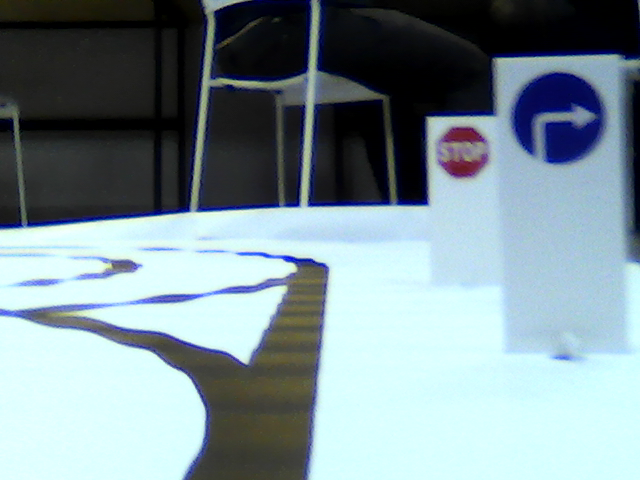Right: (512, 69, 605, 171)
Stop: (438, 124, 490, 176)
